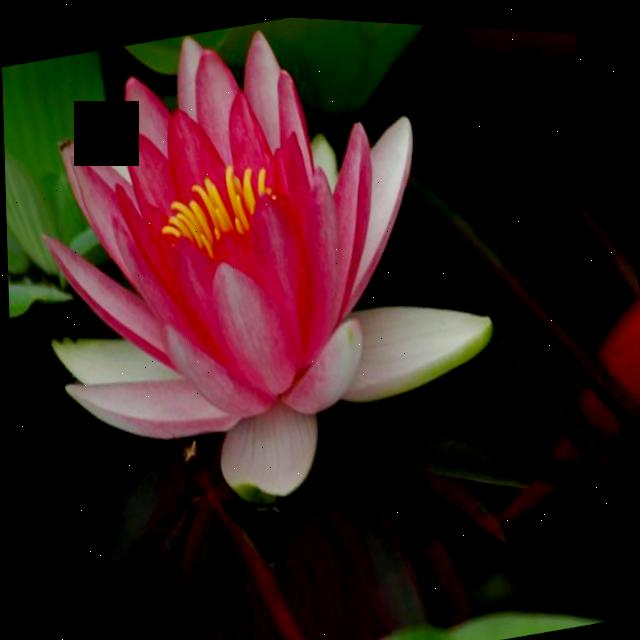water-lily: (0, 0, 490, 546)
